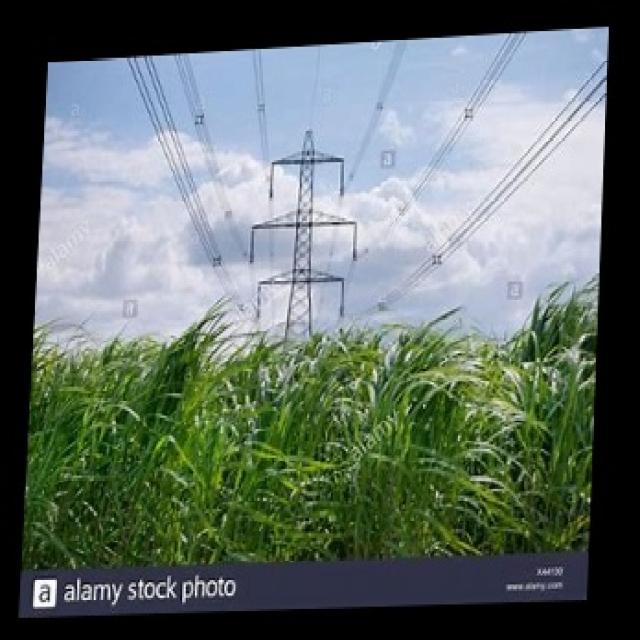utility poles: (250, 102, 355, 557)
